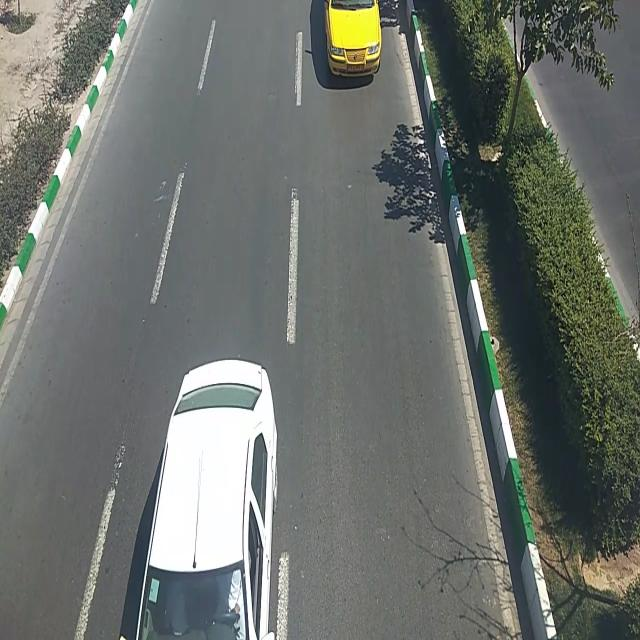car: (130, 363, 283, 640), (324, 1, 384, 76)
